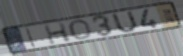3: (92, 14, 113, 38)
4: (140, 7, 162, 29)
H: (43, 21, 73, 45)
I: (25, 26, 38, 49)
O: (69, 19, 94, 41)
U: (111, 10, 139, 34)
